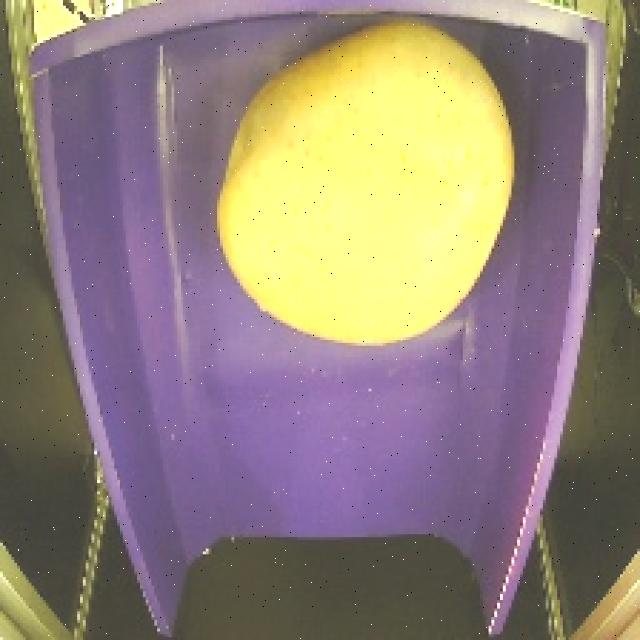full_potato: (200, 13, 535, 362)
